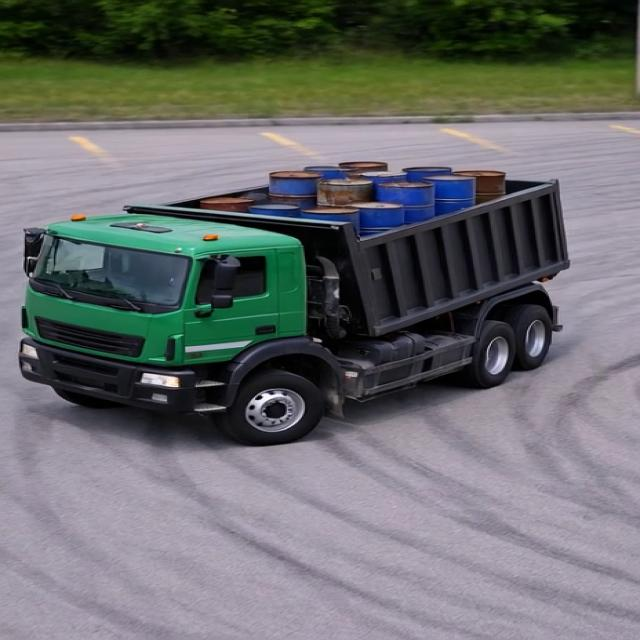Box: (150, 162, 562, 232)
Truck: (17, 142, 600, 441)
